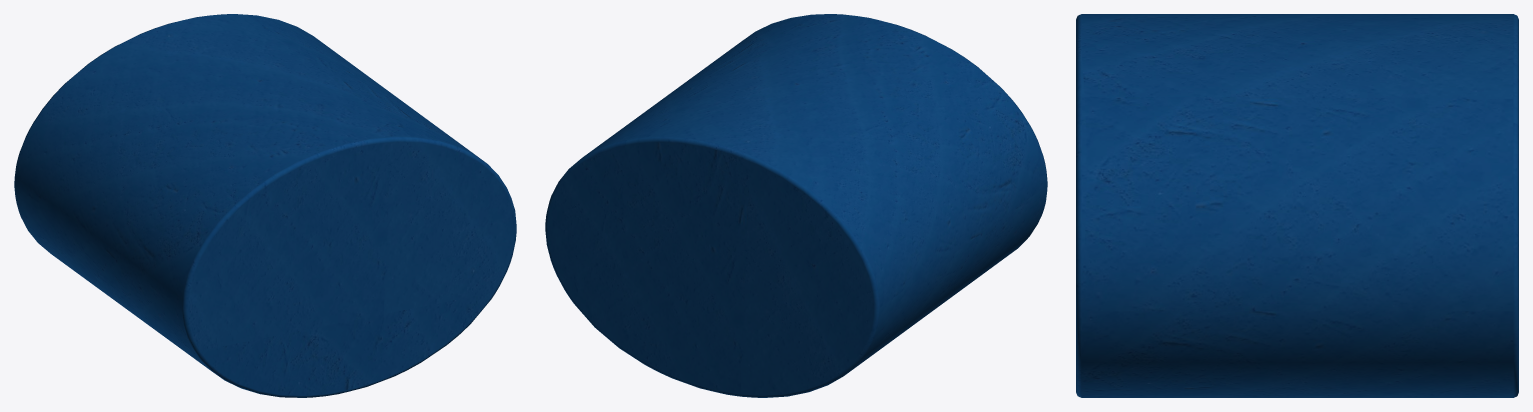
File: ellipse.glb
The picture shows the model from 3 angles, left to right: view 1: azimuth 30°, elevation 25°; view 2: azimuth 150°, elevation 25°; view 3: azimuth 270°, elevation 25°; orthographic projection. The views are drawn at different scales.
Visible parts, largest first — view 1: ellipse_2; view 2: ellipse_2; view 3: ellipse_2.
Part boxes in pixels (bbox=[...]): ellipse_2: bbox=[14, 14, 516, 397]; ellipse_2: bbox=[545, 14, 1047, 397]; ellipse_2: bbox=[1076, 14, 1518, 397].
Bounding box in the file's own units: 0.045 × 0.032 × 0.04.
1 material, 1 textured.
